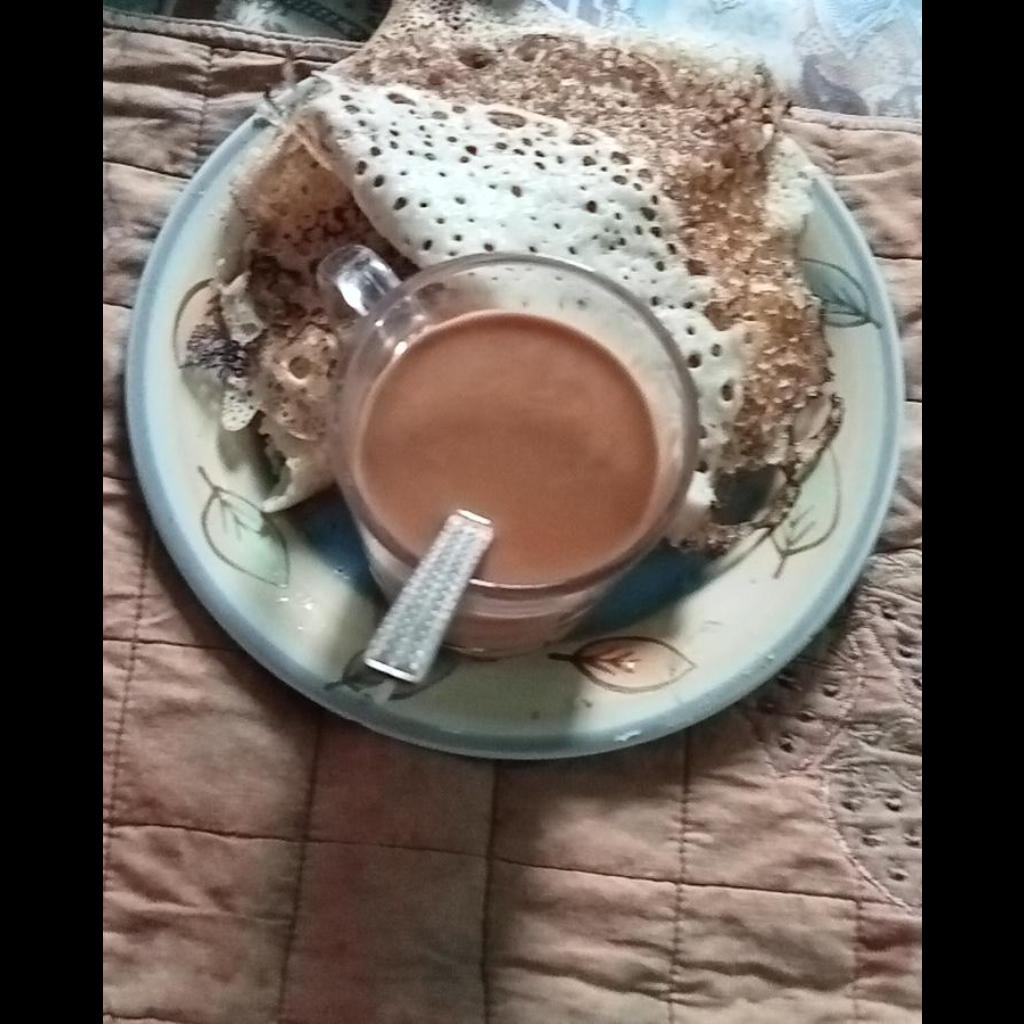cha: (351, 315, 660, 583)
sweets: (171, 2, 846, 549)
